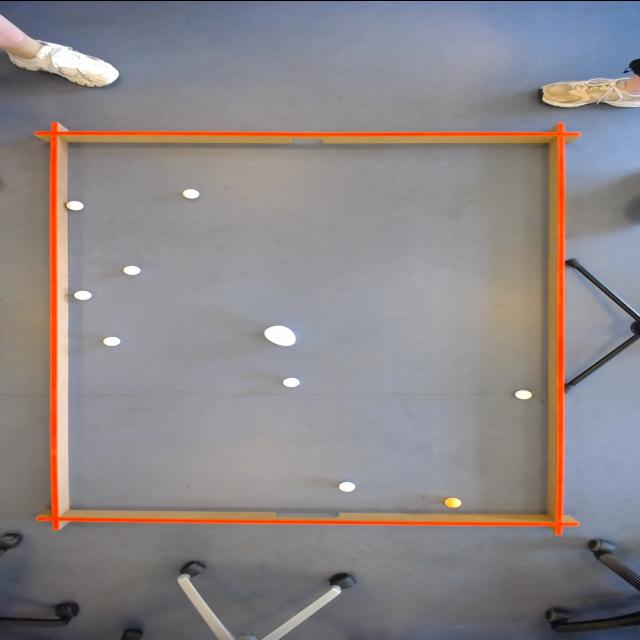egg: (260, 324, 300, 346)
orange_ball: (442, 495, 466, 507)
white_ball: (70, 287, 94, 301), (64, 199, 86, 211), (512, 388, 534, 400), (336, 480, 358, 492), (181, 188, 201, 200), (280, 375, 300, 387), (122, 263, 142, 275), (100, 335, 121, 346)
